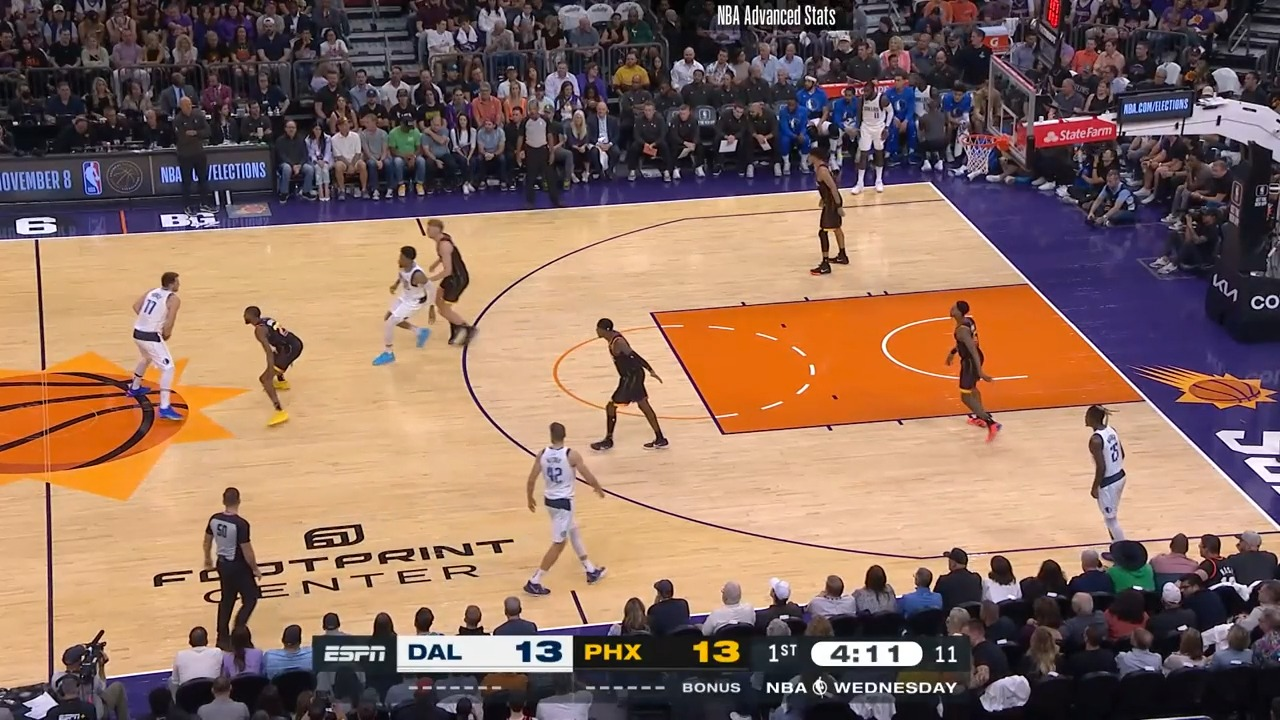net: (951, 127, 1012, 182)
player: (519, 423, 613, 601), (117, 266, 192, 433), (588, 318, 670, 458), (404, 216, 471, 371), (368, 241, 442, 372), (939, 297, 1006, 441), (237, 303, 308, 429), (1080, 402, 1136, 559), (802, 148, 853, 280), (844, 77, 893, 201)
referee: (204, 483, 271, 645), (516, 100, 565, 211)
